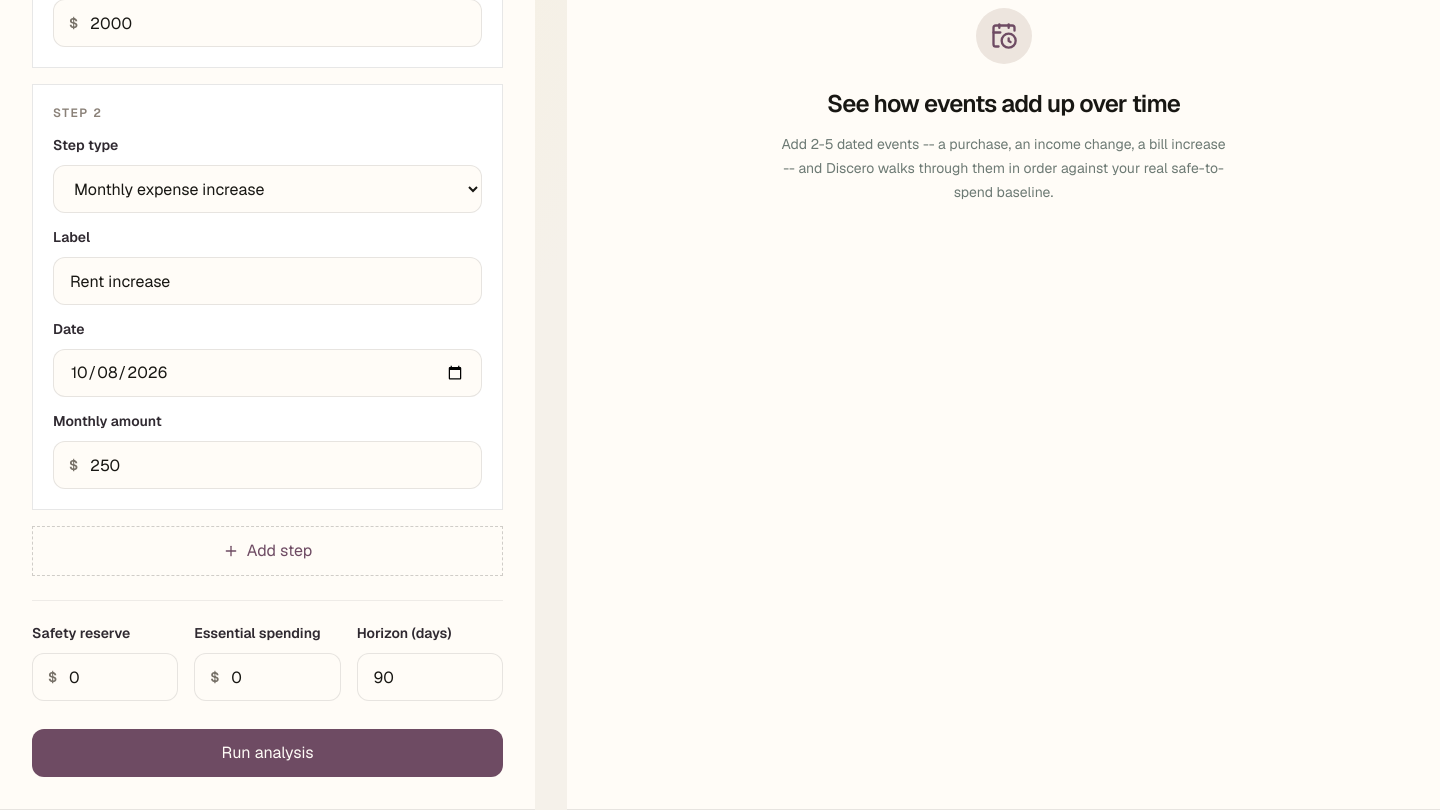
Test: MultiStepScenarioPlanner › renders deterministic warnings when present
The image size is (1440, 810).
(page scrolled)
Click the button "Run analysis" at point(268, 753), box x1=32 y1=729 x2=503 y2=777
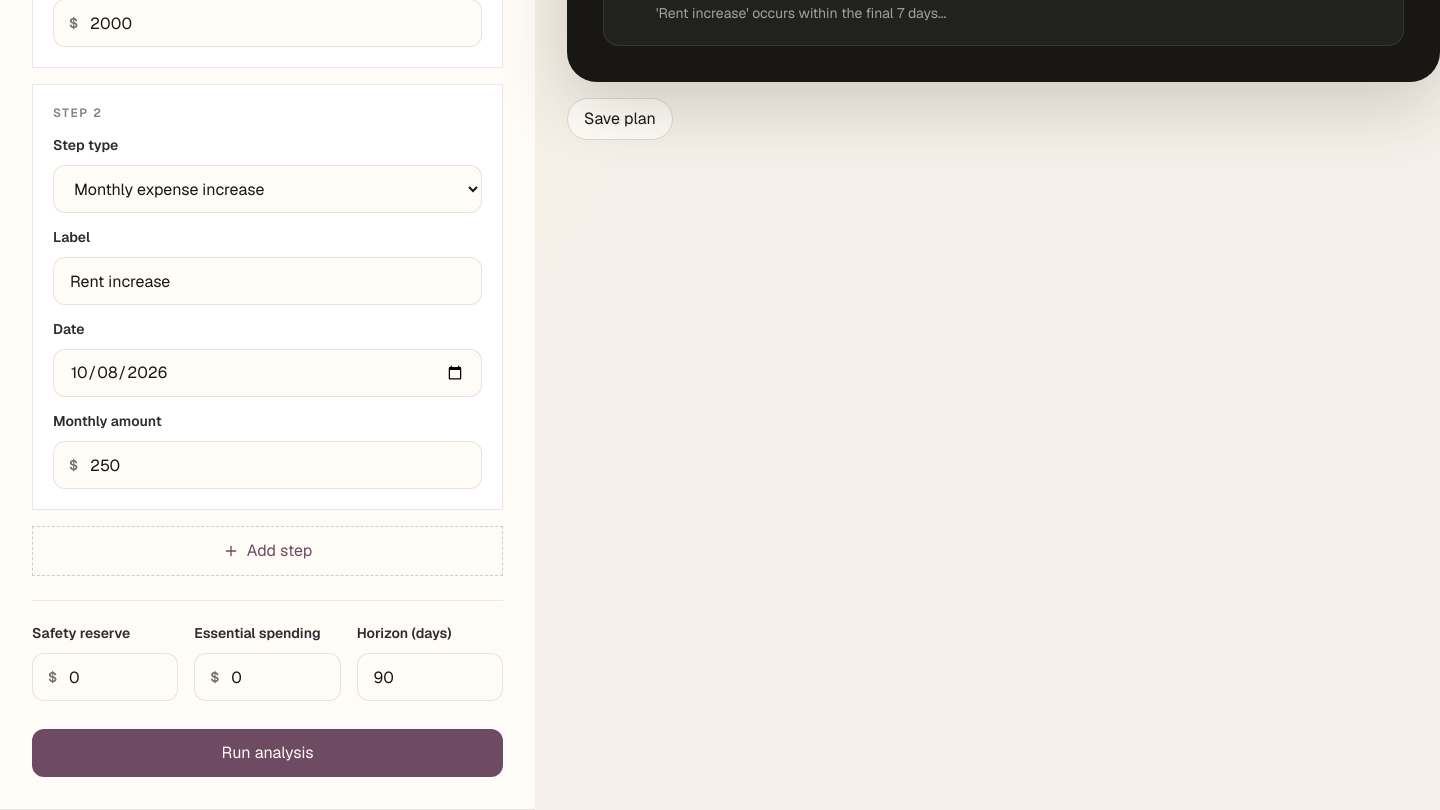
Expected: the list item "'Rent increase' occurs within the final 7 days..." is shown, x1=656 y1=1 x2=946 y2=25
